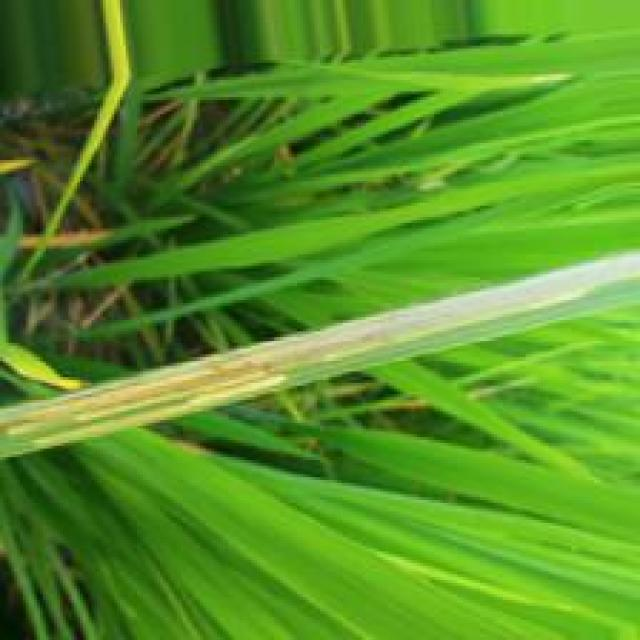Rice_Hispa: (35, 376, 285, 448)
